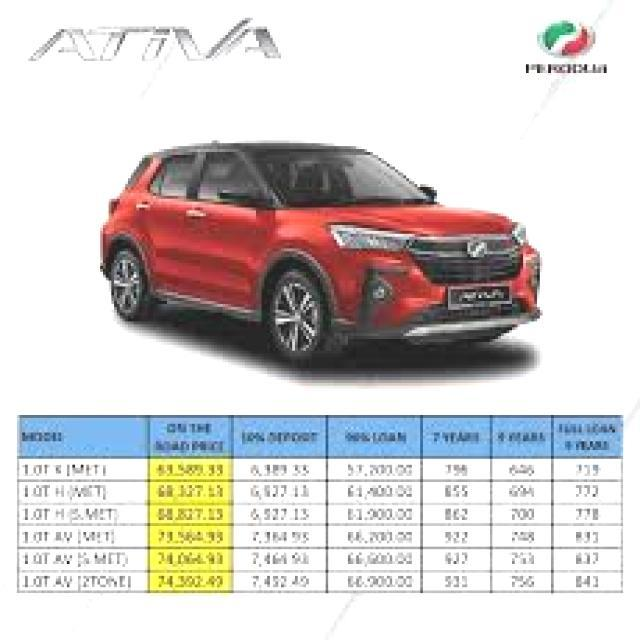PeroduaAtiva: (98, 139, 543, 365)
